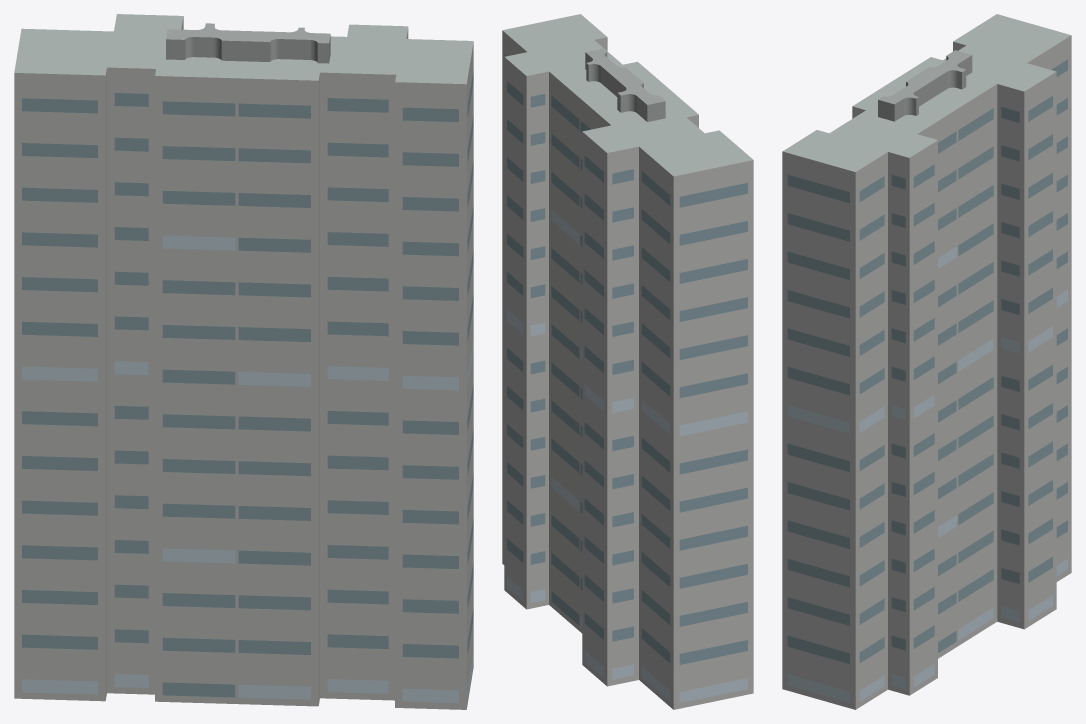
Rendered from fallback-lake-palace-114.glb.
3 views of the same model, side by side, from view 1: azimuth 30°, elevation 25°; view 2: azimuth 150°, elevation 25°; view 3: azimuth 270°, elevation 25° (orthographic). The views are drawn at different scales.
Visible parts, largest first — view 1: fallback-lake-palace-114; view 2: fallback-lake-palace-114; view 3: fallback-lake-palace-114.
Boxes of the visible parts, box(x1,y1,x2,y2) form: fallback-lake-palace-114: box(14, 14, 473, 709); fallback-lake-palace-114: box(502, 14, 753, 709); fallback-lake-palace-114: box(782, 14, 1071, 709).
Bounding box in the file's own units: 47.07 × 77 × 36.33.
